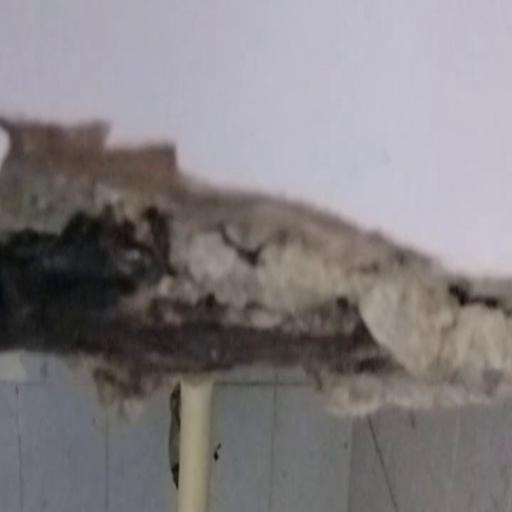spalling: (0, 91, 512, 416)
